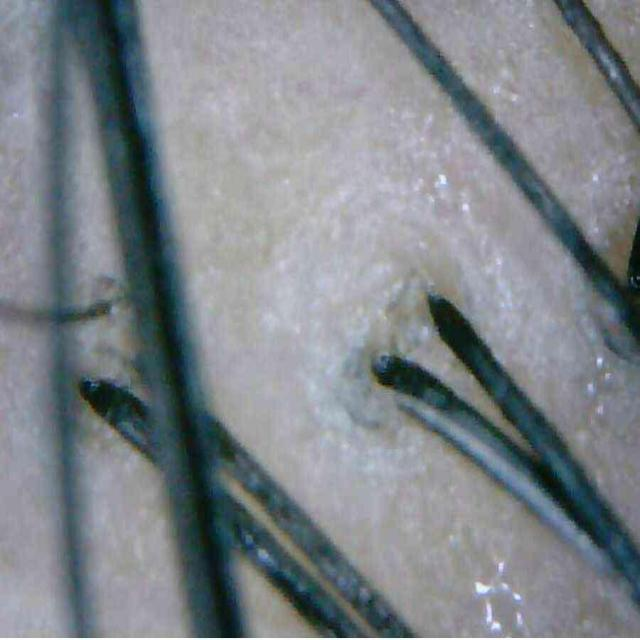o: (398, 149, 486, 259), (571, 336, 632, 438), (585, 146, 639, 249), (474, 562, 529, 636), (492, 59, 525, 115)
